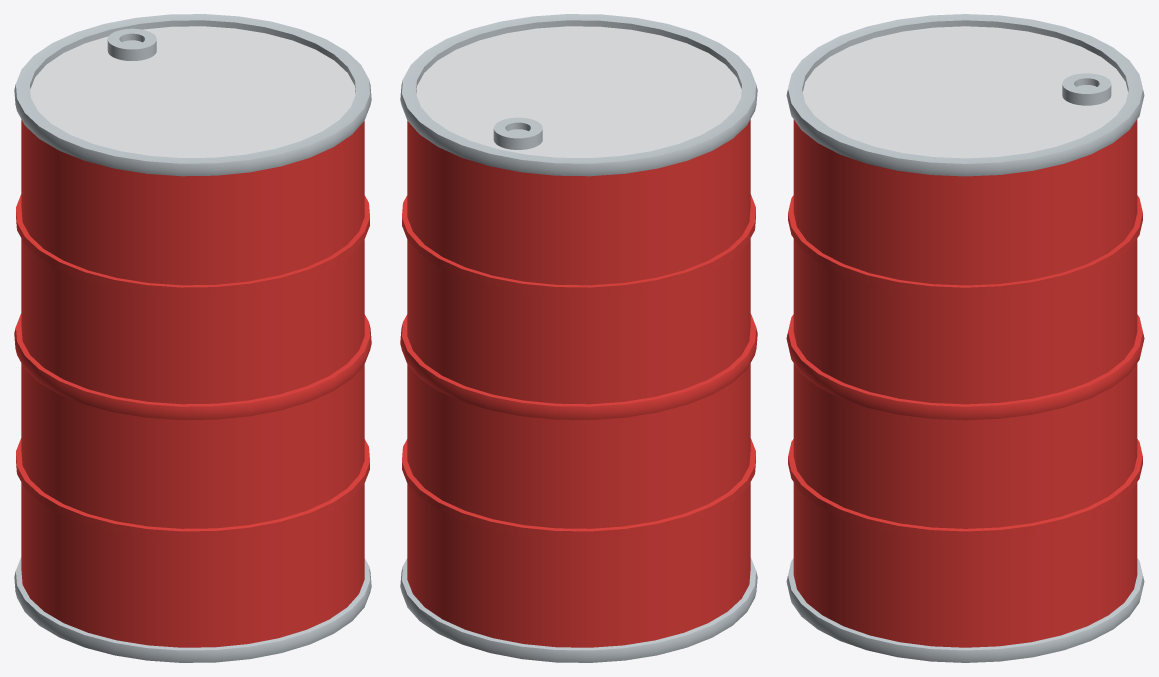
File: oil_drum.glb
The picture shows the model from 3 angles, left to right: view 1: azimuth 30°, elevation 25°; view 2: azimuth 150°, elevation 25°; view 3: azimuth 270°, elevation 25°; orthographic projection.
Parts seen in each view (by area): view 1: Cylinder.448; view 2: Cylinder.448; view 3: Cylinder.448.
Boxes of the visible parts, x1,y1,x2,y2 form: Cylinder.448: [14, 14, 371, 662]; Cylinder.448: [400, 14, 757, 662]; Cylinder.448: [786, 14, 1144, 662].
Size of the model in its own units: 1.25 by 1.94 by 1.25.
1 material, 1 textured.
